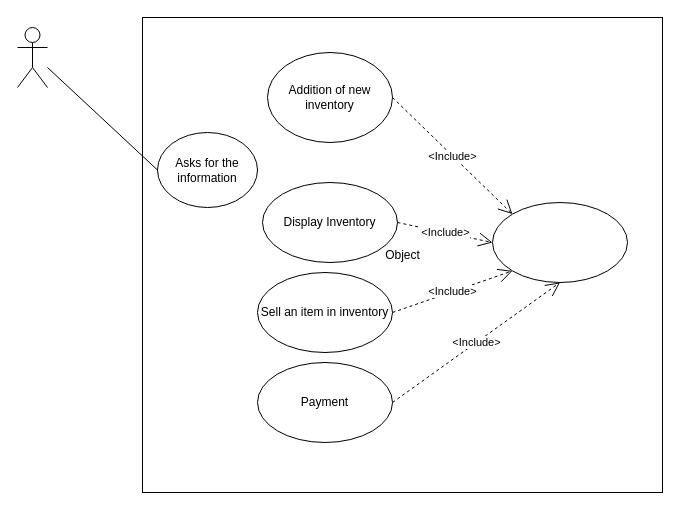
The diagram is 680 pixels wide and 510 high, and some of its shapes have lost their labels. The centre of each missing label's shape, as x and y in pixels:
"Information" belongs at point 560,242.
"User" belongs at point 32,57.
